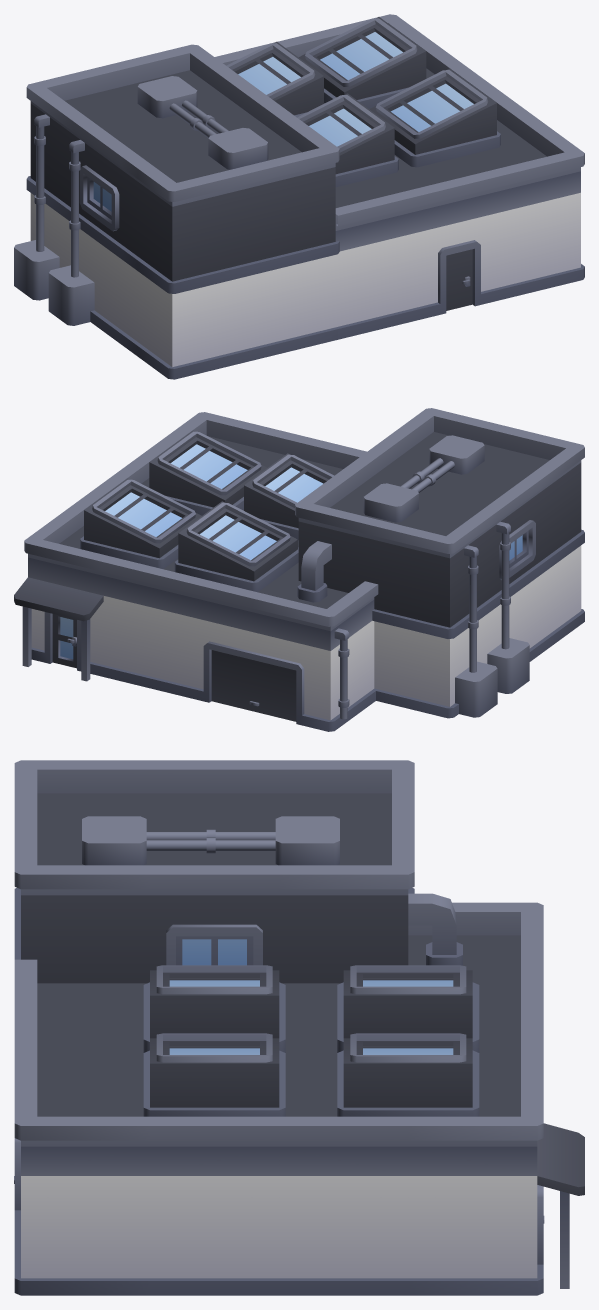
Rendered from building-q_lev1.glb.
The picture shows the model from 3 angles, top to bottom: view 1: azimuth 30°, elevation 25°; view 2: azimuth 150°, elevation 25°; view 3: azimuth 270°, elevation 25°; orthographic projection. The views are drawn at different scales.
Parts seen in each view (by area): view 1: building-q_lev1; view 2: building-q_lev1; view 3: building-q_lev1.
Boxes of the visible parts, x1,y1,x2,y2 form: building-q_lev1: [14, 14, 584, 379]; building-q_lev1: [14, 408, 584, 731]; building-q_lev1: [14, 760, 584, 1295].
Bounding box in the file's own units: 16.63 × 6.84 × 13.75.
1 material, 1 textured.
